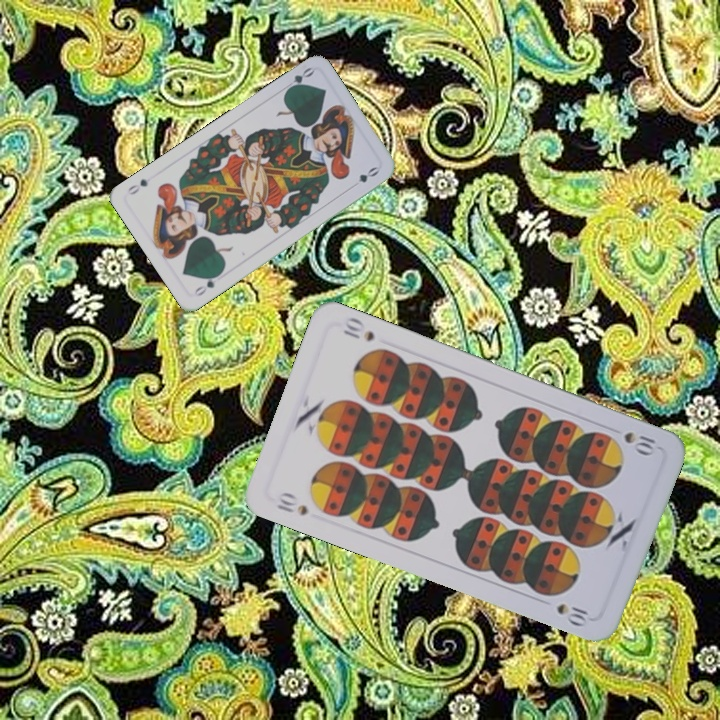GO: (279, 63, 316, 95), (190, 269, 224, 299)
S10: (272, 488, 311, 519), (620, 427, 659, 456)
